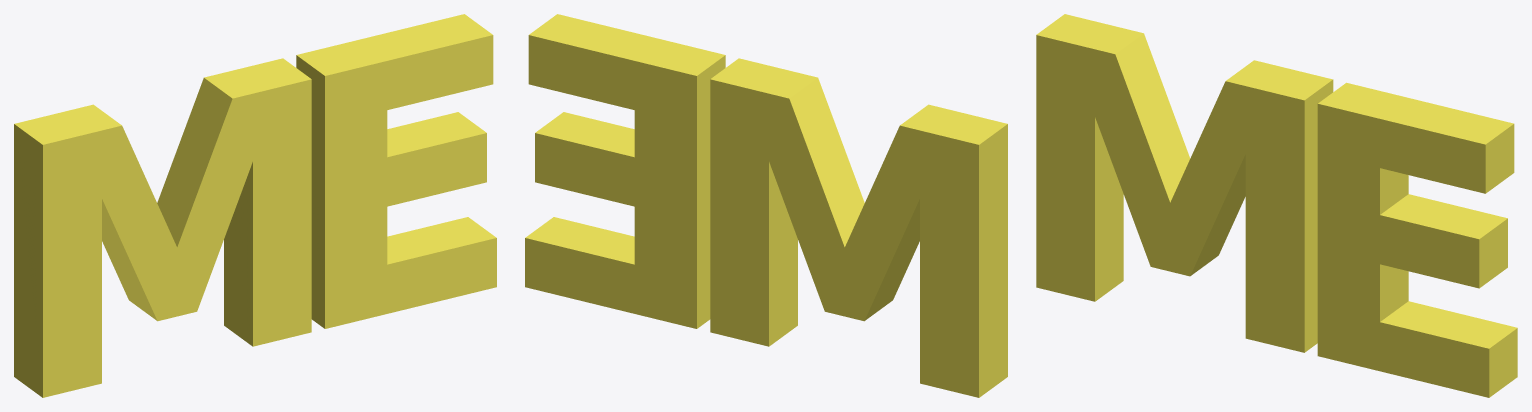
Rendered from suku_besar_me.glb.
3 renders of one model, left to right at view 1: azimuth 30°, elevation 25°; view 2: azimuth 150°, elevation 25°; view 3: azimuth 330°, elevation 25°, orthographic.
Parts seen in each view (by area): view 1: geometry_0; view 2: geometry_0; view 3: geometry_0.
Boxes of the visible parts, x1,y1,x2,y2 form: geometry_0: [14, 14, 496, 397]; geometry_0: [525, 14, 1007, 397]; geometry_0: [1036, 14, 1517, 397].
Bounding box in the file's own units: 13.69 × 7.29 × 1.5.
